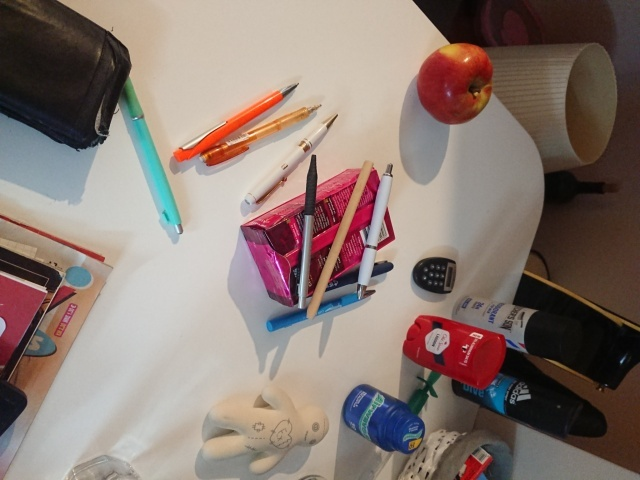Barcaffe Classic Original 225g: (237, 165, 397, 310)
